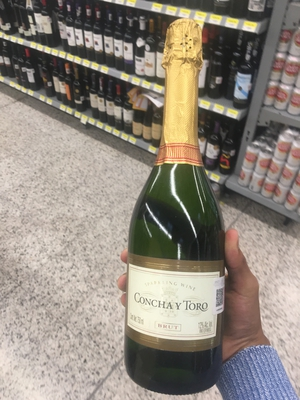brut: (115, 27, 234, 400)
